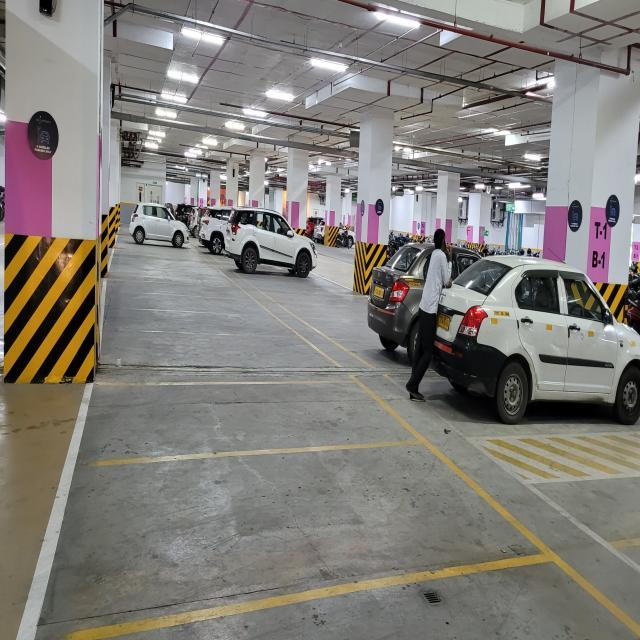car: (436, 327, 563, 432)
free: (125, 450, 316, 580), (131, 367, 332, 439)
